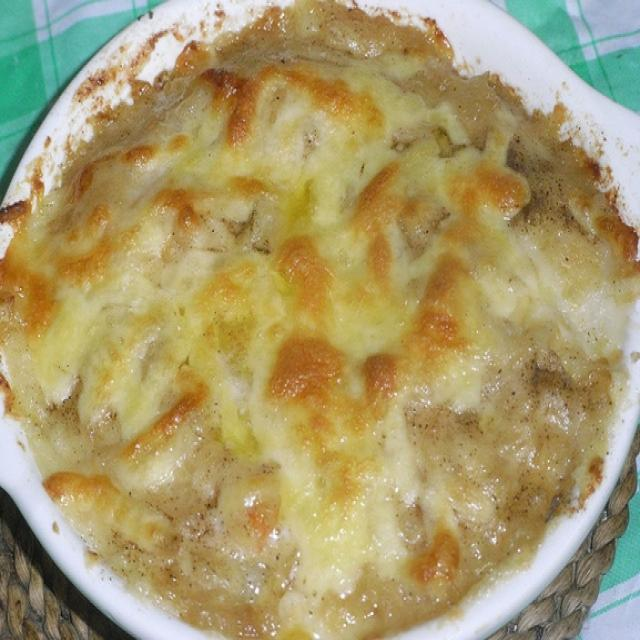米饭主食: (11, 15, 616, 621)
